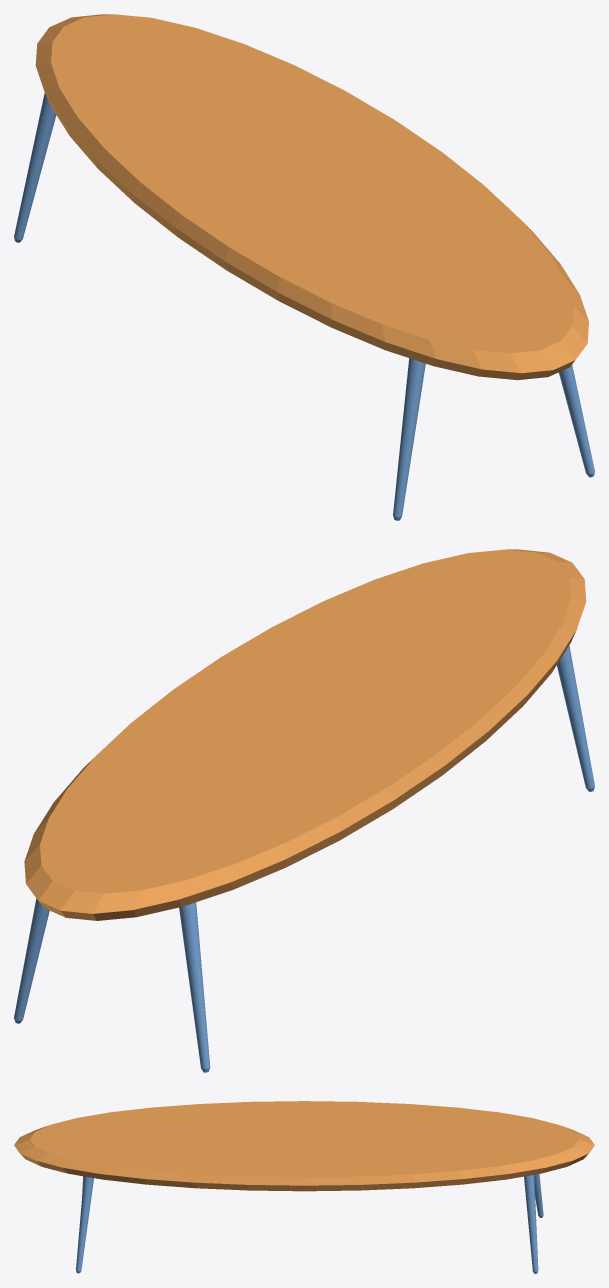
File: bad table.fbx
3 views of the same model, one above another, from view 1: azimuth 30°, elevation 25°; view 2: azimuth 150°, elevation 25°; view 3: azimuth 270°, elevation 25° (orthographic). The views are drawn at different scales.
Visible parts, largest first — view 1: top, 2 more leg, leg, 1 more leg; view 2: top, leg, 2 more leg, leg?????; view 3: top, leg?????, 1 more leg, leg.
Boxes of the visible parts, box(x1,y1,x2,y2) form: top: box(35, 14, 588, 380); 2 more leg: box(393, 358, 425, 520); leg: box(14, 93, 56, 242); 1 more leg: box(558, 365, 594, 477); top: box(24, 549, 586, 920); leg: box(179, 902, 210, 1072); 2 more leg: box(556, 645, 594, 791); leg?????: box(14, 898, 49, 1023); top: box(14, 1101, 594, 1191); leg?????: box(524, 1175, 538, 1273); 1 more leg: box(76, 1176, 93, 1273); leg: box(534, 1174, 543, 1217).
Bounding box in the file's own units: 212 × 131 × 643.
